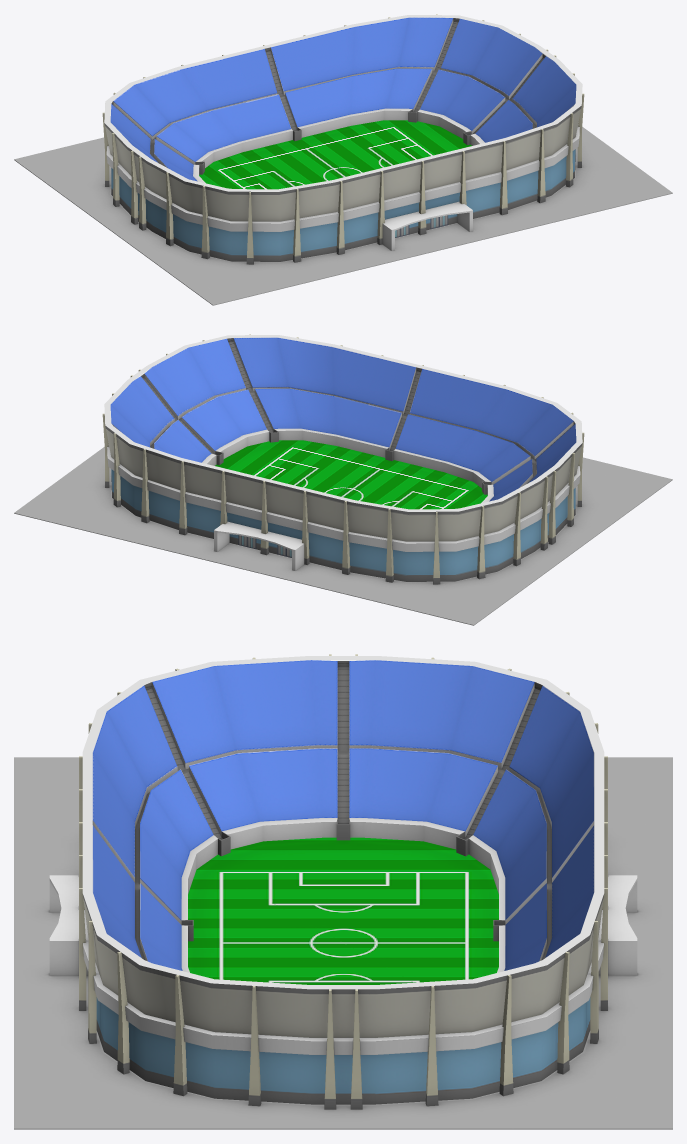
The model's file is HOS0610006.fbx.
3 renders of one model, top to bottom at view 1: azimuth 30°, elevation 25°; view 2: azimuth 150°, elevation 25°; view 3: azimuth 270°, elevation 25°, orthographic. The views are drawn at different scales.
Parts seen in each view (by area): view 1: smHOS0610006; view 2: smHOS0610006; view 3: smHOS0610006.
Boxes of the visible parts, x1,y1,x2,y2 form: smHOS0610006: (14, 14, 672, 305); smHOS0610006: (14, 334, 672, 625); smHOS0610006: (14, 654, 672, 1129).
Size of what is drawn, in the model's own units: 12721 by 1938 by 9541.
Materials: 1 (1 with a texture image).
